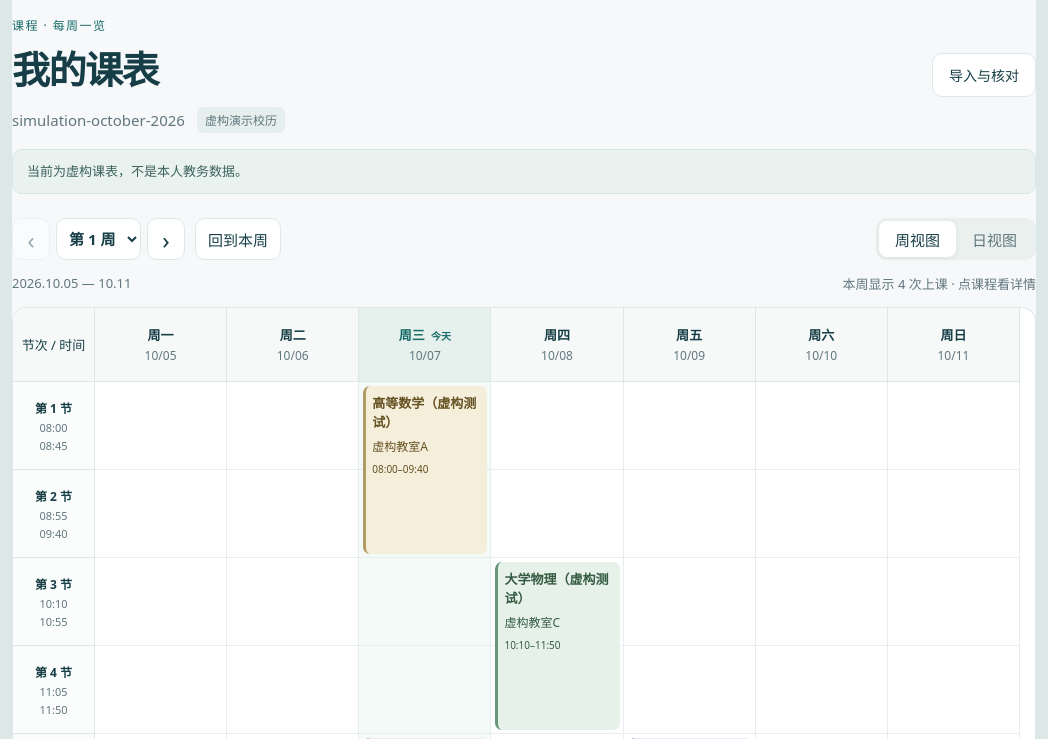
Test: timetable interactions › navigates weeks and resets to the current teaching week
Expected: the button "‹" is disabled, 12,218 -> 50,260
Click the button "›" at (166, 239), box 147,218 -> 185,260
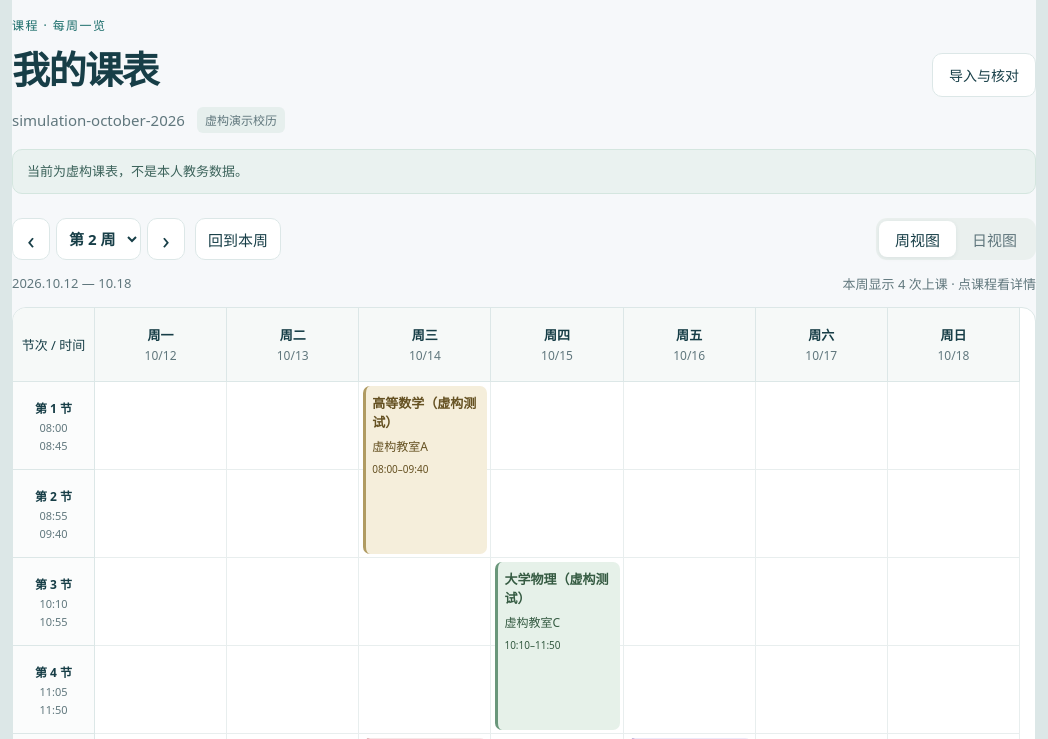
Result: the dropdown named "教学周" shows "第 2 周" at 56,218 -> 141,260
Click the button "回到本周" at (238, 239), box 195,218 -> 281,260
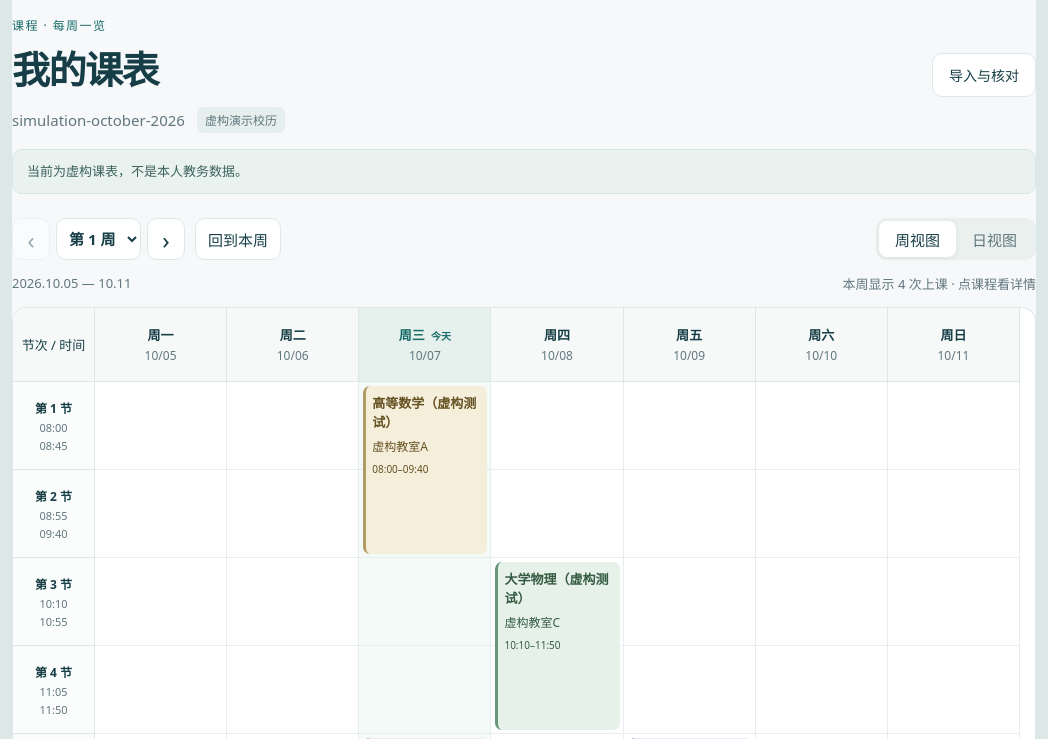
Result: the dropdown named "教学周" shows "第 1 周" at 56,218 -> 141,260
